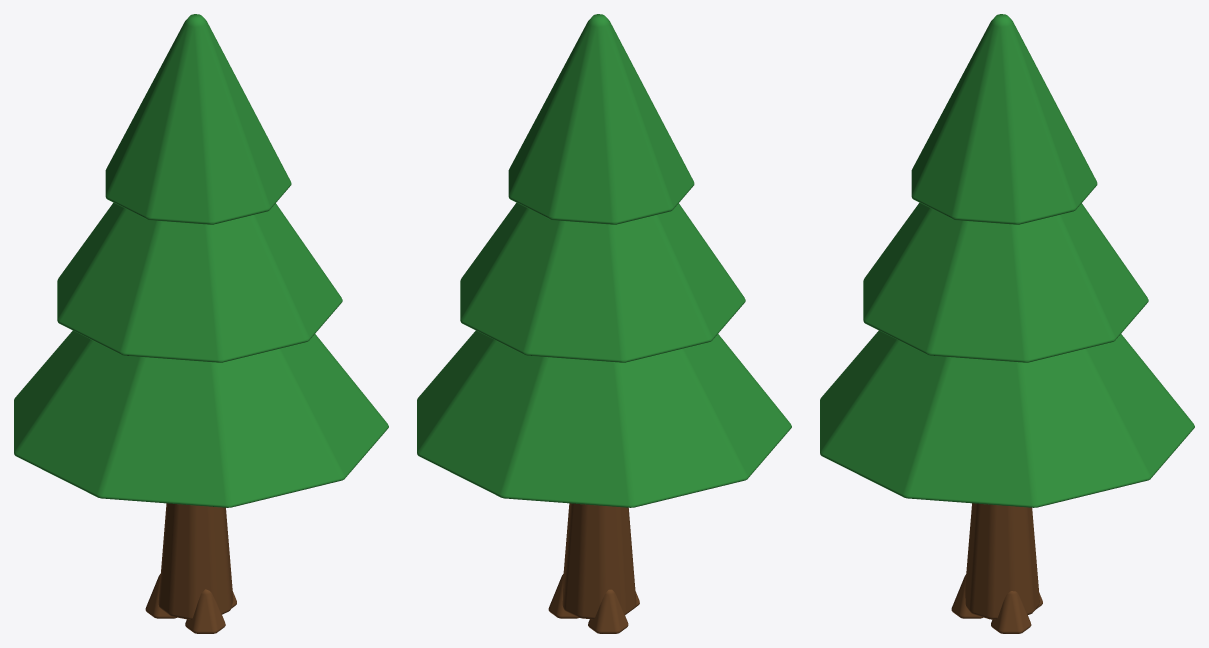
The model's file is tree0.glb.
3 views of the same model, side by side, from view 1: azimuth 30°, elevation 25°; view 2: azimuth 150°, elevation 25°; view 3: azimuth 270°, elevation 25° (orthographic).
Visible parts, largest first — view 1: Tree; view 2: Tree; view 3: Tree.
Part boxes in pixels (x1,y1,x2,y2): Tree: (14,14,388,633); Tree: (417,14,791,633); Tree: (820,14,1194,633).
Bounding box in the file's own units: 3.7 × 6.41 × 3.64.
